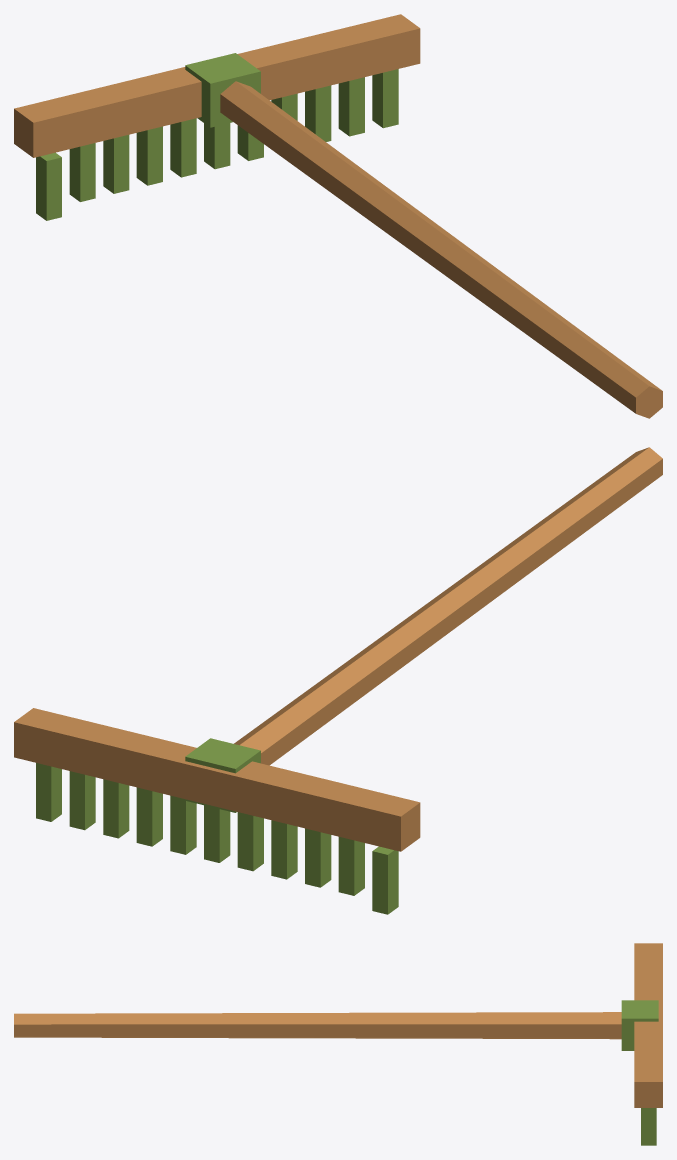
Rendered from kinu.glb.
3 views of the same model, one above another, from view 1: azimuth 30°, elevation 25°; view 2: azimuth 150°, elevation 25°; view 3: azimuth 270°, elevation 25° (orthographic). The views are drawn at different scales.
Visible parts, largest first — view 1: Head, Handle, tine_0, tine_2, tine_1, tine_4, tine_10, tine_3, tine_9, tine_8, tine_5, tine_6; view 2: Head, Handle, tine_0, tine_4, tine_7, tine_1, tine_3, tine_9, tine_2, tine_8, tine_6, tine_5 (+1 smaller); view 3: Handle, Head, tine_10.
Part boxes in pixels (x1,y1,x2,y2): Head: [14, 14, 420, 157]; Handle: [220, 81, 662, 418]; tine_0: [36, 152, 61, 220]; tine_2: [103, 135, 129, 193]; tine_1: [69, 143, 95, 201]; tine_4: [170, 118, 196, 177]; tine_10: [372, 69, 398, 128]; tine_3: [136, 126, 162, 185]; tine_9: [338, 77, 364, 136]; tine_8: [305, 85, 331, 141]; tine_5: [204, 123, 230, 169]; tine_6: [237, 125, 263, 160]; Head: [14, 708, 420, 851]; Handle: [234, 447, 662, 765]; tine_0: [372, 846, 398, 914]; tine_4: [237, 812, 263, 871]; tine_7: [136, 787, 162, 846]; tine_1: [338, 837, 364, 895]; tine_3: [271, 820, 297, 879]; tine_9: [69, 771, 95, 830]; tine_2: [305, 828, 331, 887]; tine_8: [103, 779, 129, 838]; tine_6: [170, 795, 196, 854]; tine_5: [204, 805, 230, 862]; Handle: [14, 1012, 621, 1039]; Head: [621, 943, 662, 1107]; tine_10: [641, 1108, 656, 1145].
Size of the model in its own units: 23 by 6.25 by 45.5.
